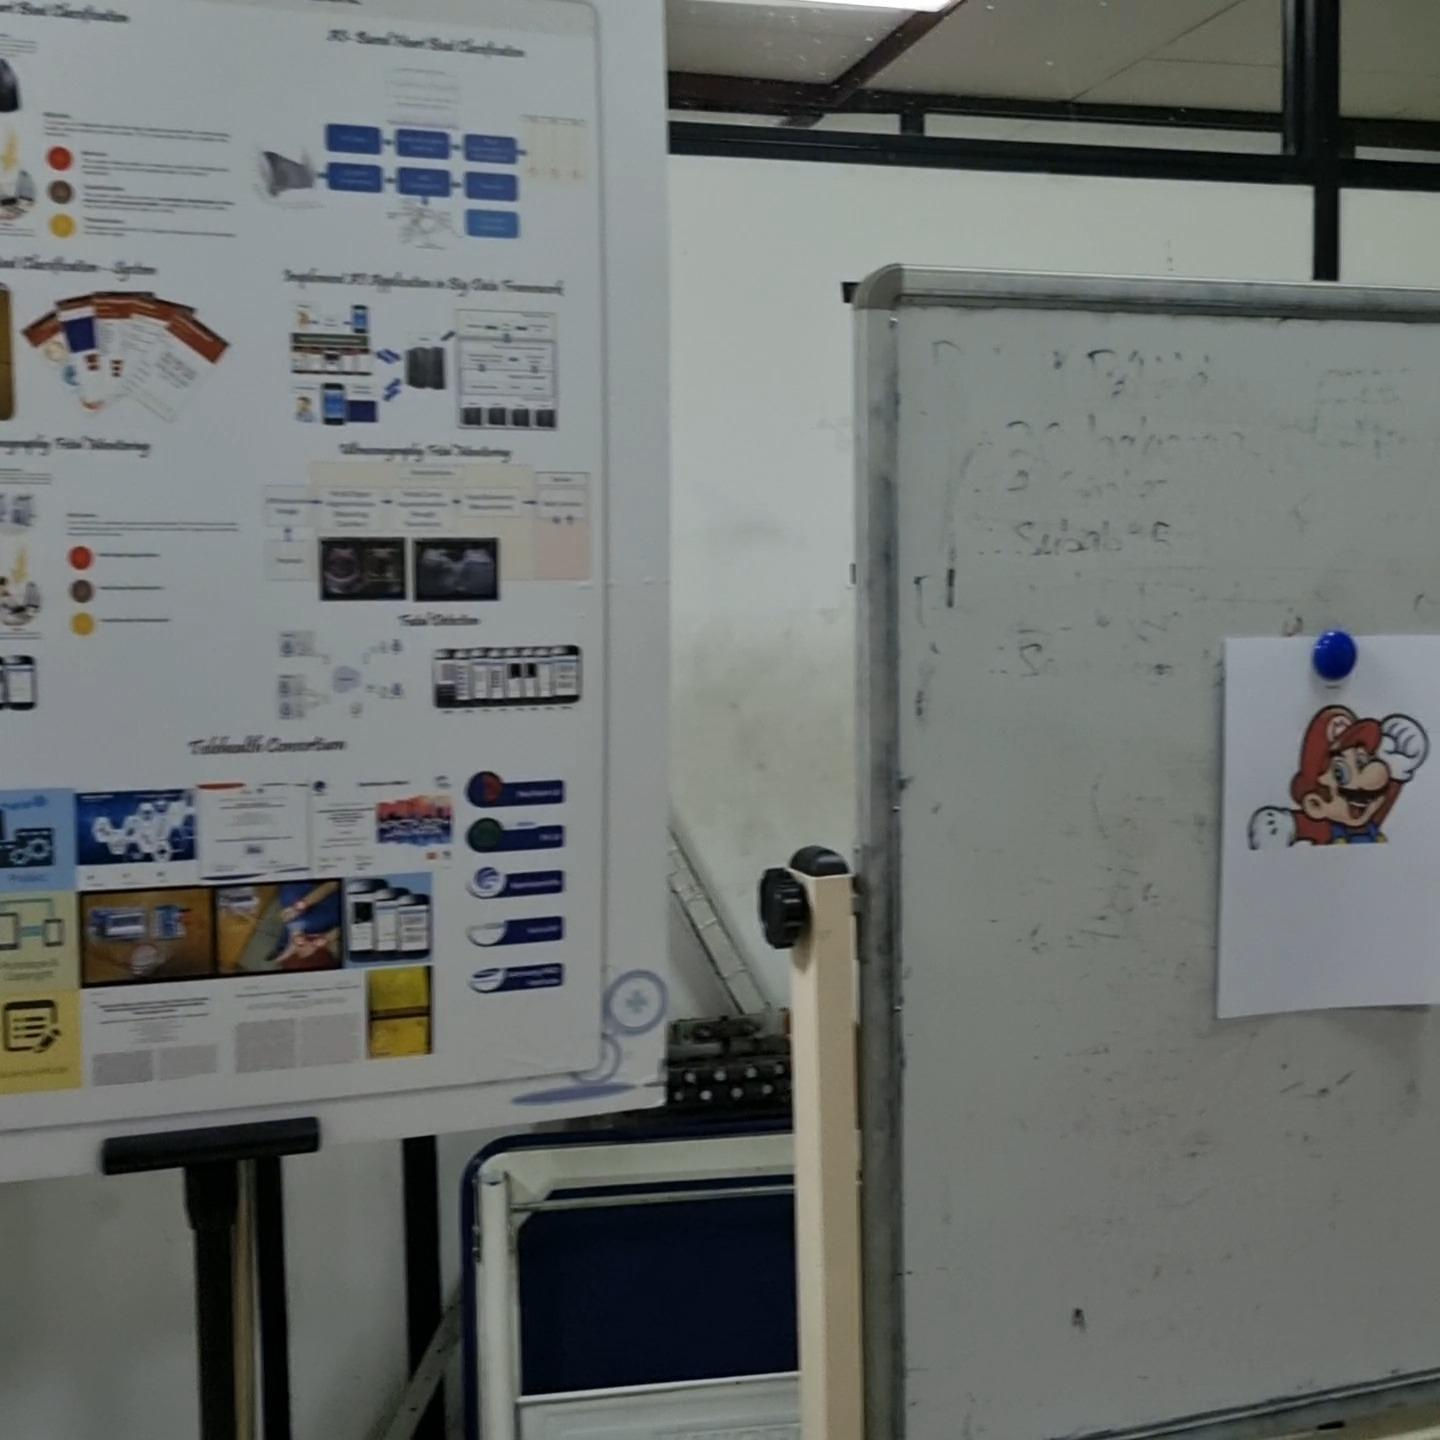mario: (1242, 691, 1433, 861)
